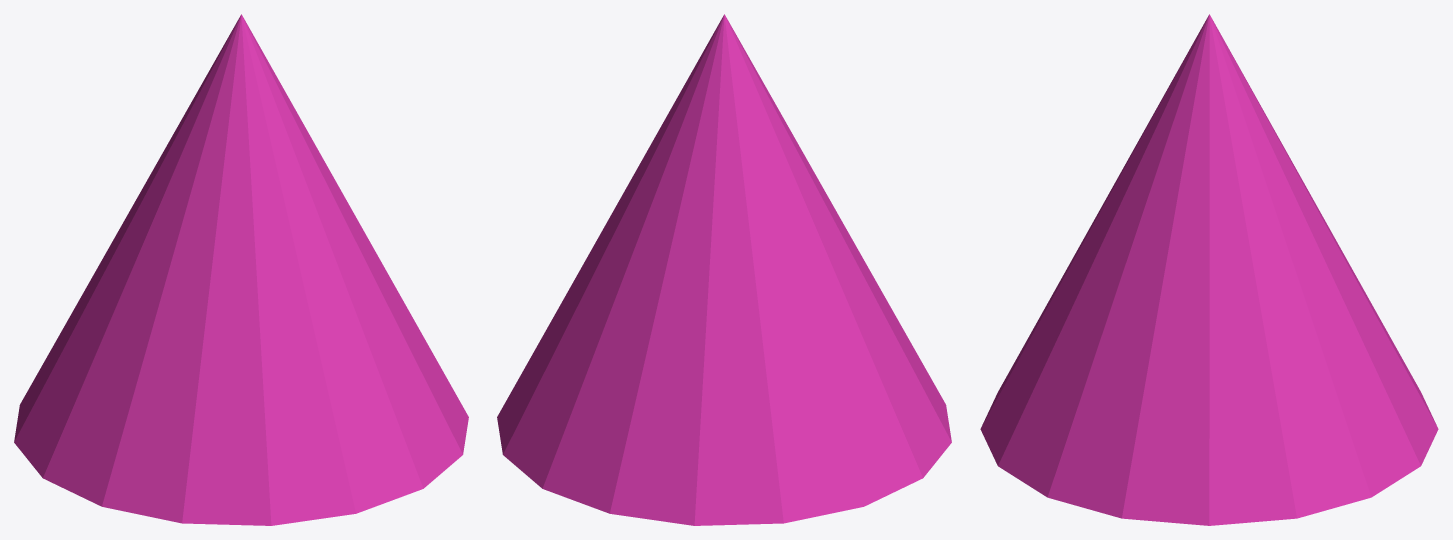
The model's file is Kerucut.fbx.
3 renders of one model, left to right at view 1: azimuth 30°, elevation 25°; view 2: azimuth 150°, elevation 25°; view 3: azimuth 270°, elevation 25°, orthographic.
Parts seen in each view (by area): view 1: Cone; view 2: Cone; view 3: Cone.
Part boxes in pixels (box(x1,y1,x2,y2)): Cone: box(14, 14, 468, 525); Cone: box(497, 14, 951, 525); Cone: box(980, 14, 1438, 525).
Bounding box in the file's own units: 200 × 200 × 200.
